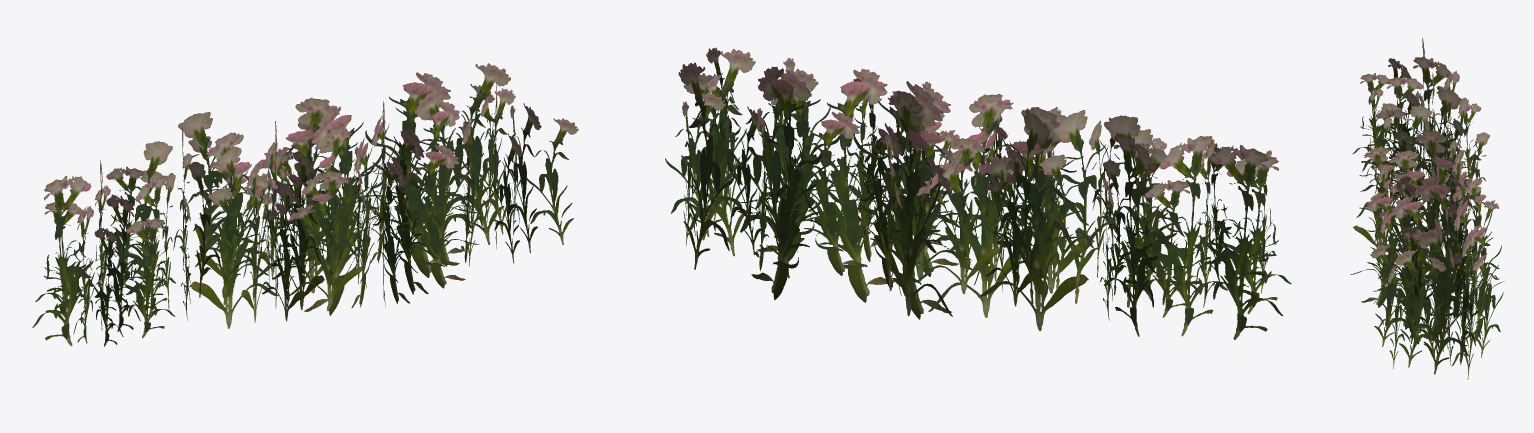
Rendered from flowers_pinkcarnation.fbx.
3 views of the same model, side by side, from view 1: azimuth 30°, elevation 25°; view 2: azimuth 150°, elevation 25°; view 3: azimuth 270°, elevation 25° (orthographic). The views are drawn at different scales.
Parts seen in each view (by area): view 1: Plane_026; view 2: Plane_026; view 3: Plane_026.
Part boxes in pixels (x1,y1,x2,y2): Plane_026: (32,63,578,346); Plane_026: (665,47,1291,339); Plane_026: (1350,37,1504,379).
Size of the model in its own units: 218 by 90.88 by 74.46.
